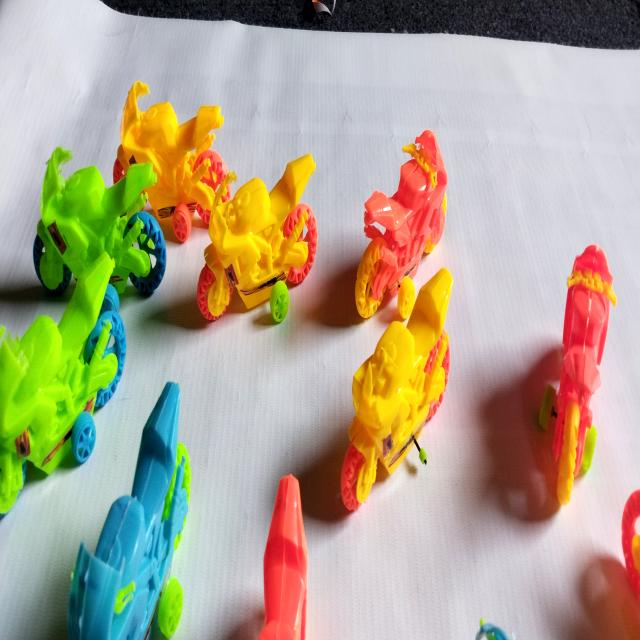bikes: (0, 259, 126, 512), (68, 382, 191, 640), (341, 268, 452, 509), (197, 154, 317, 320), (34, 147, 166, 296), (113, 81, 228, 243), (551, 245, 616, 505), (358, 130, 448, 316)
